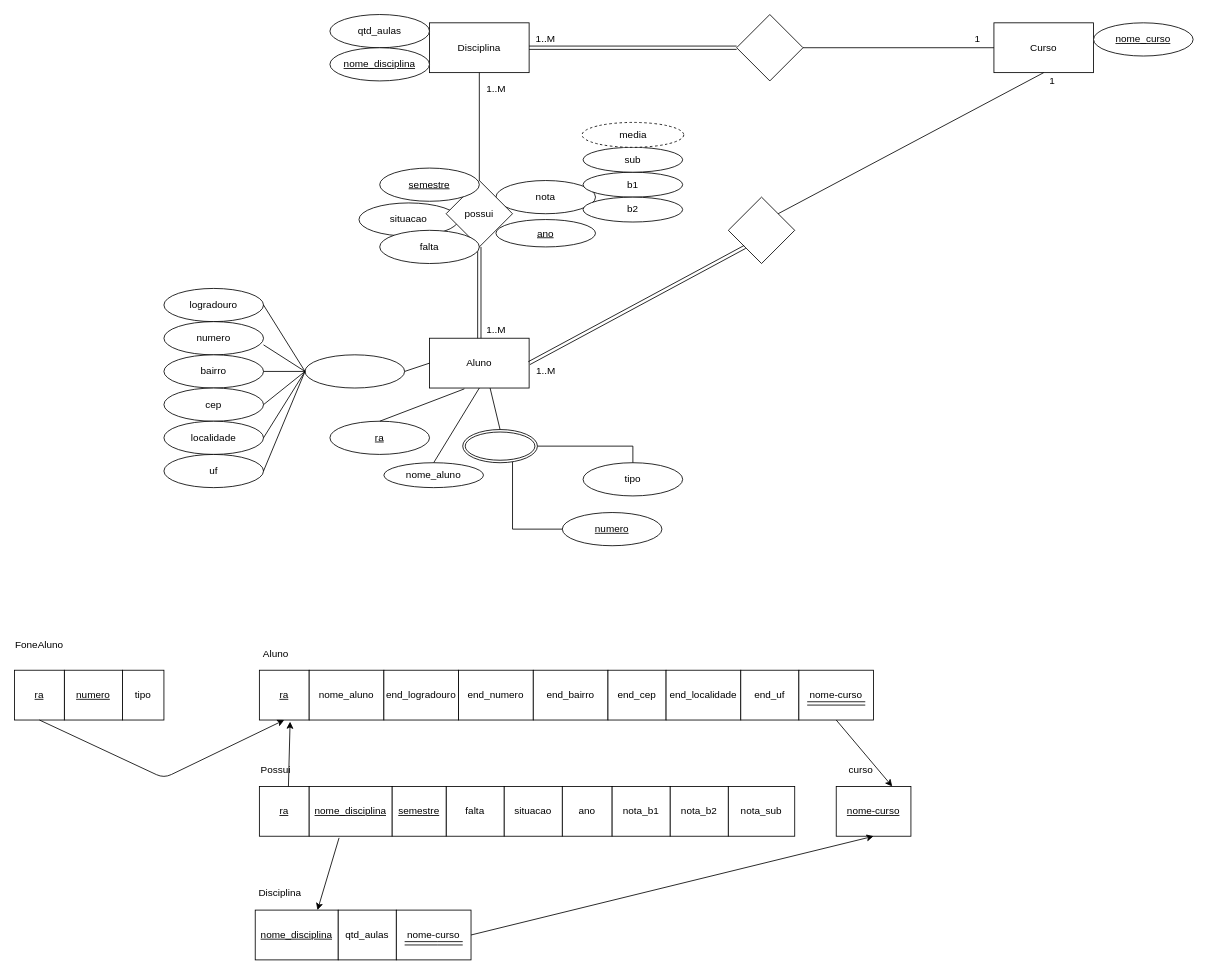
Some shapes in this 1208 by 974 pixel diagram are drawn without their labels. Each missing label, with the centre of its shape:
"endereco" goes at point 354,371.
"fone" goes at point 499,446.
"oferece" goes at point 769,47.
"pertence" goes at point 761,230.
